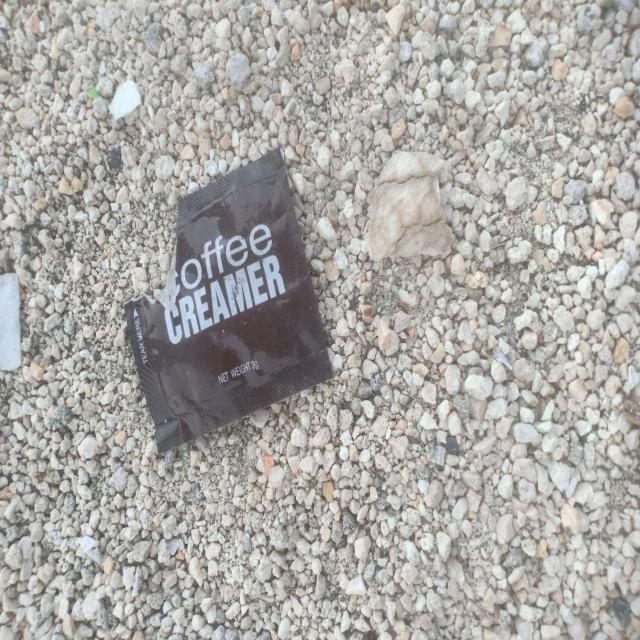plastic_waste: (125, 148, 335, 457)
